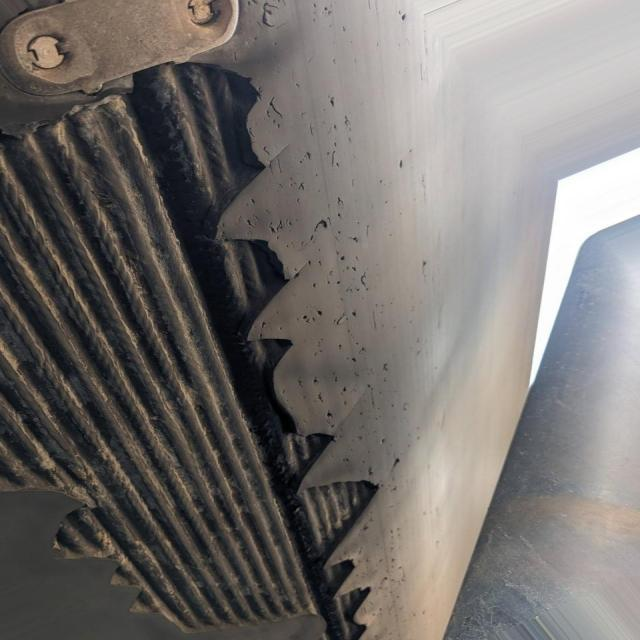Tear: (0, 57, 402, 640)
